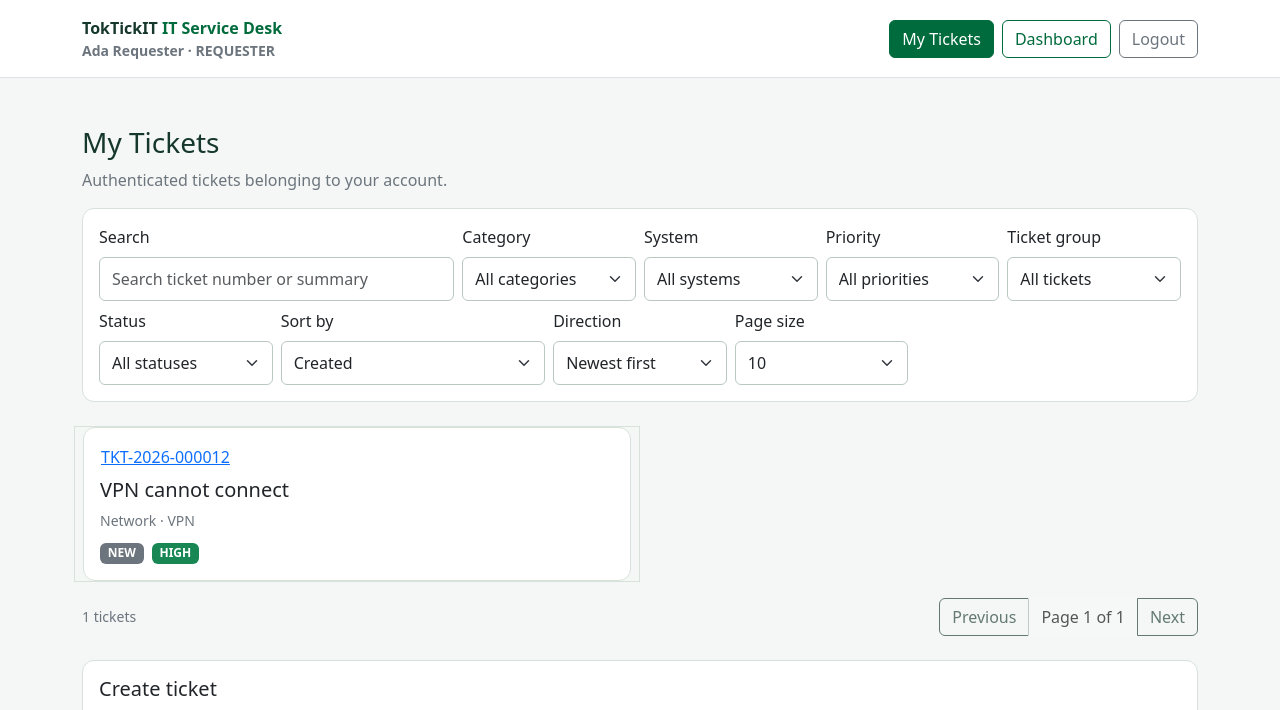
Lab 3 authenticated Requester › renders authenticated ticket detail with the public resolution action and no internal notes
This screenshot has width=1280, height=710.
Click the button with aria-label "Open ticket TKT-2026-000012" at (165, 457), box x1=100 y1=444 x2=231 y2=470
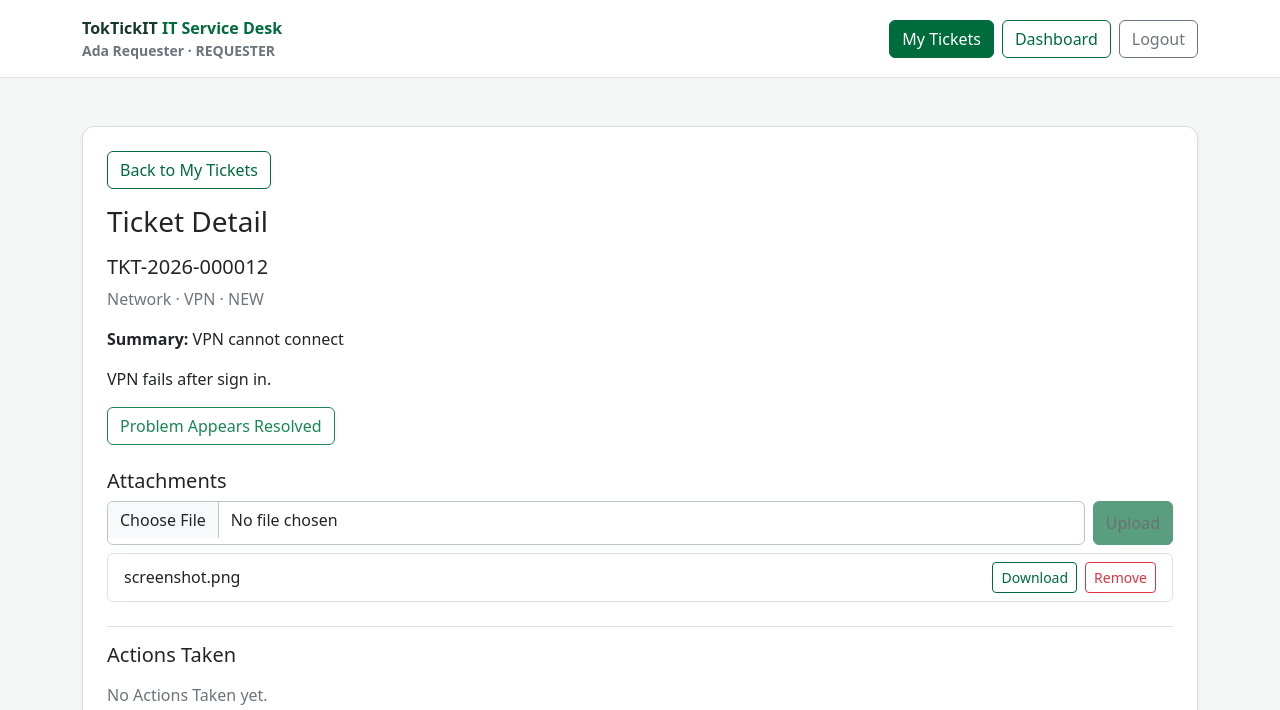
Result: the heading "Ticket Detail" is shown at x1=107 y1=202 x2=268 y2=240
Result: the button "Problem Appears Resolved" is shown at x1=107 y1=407 x2=334 y2=445
